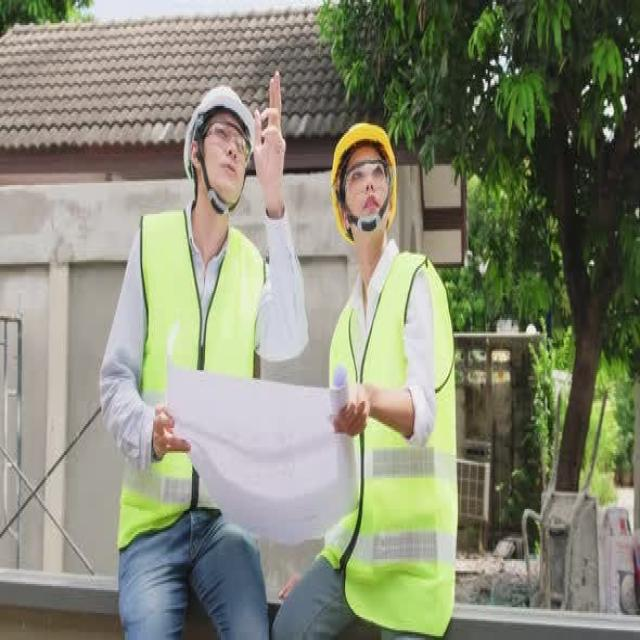goggles: (202, 121, 252, 163), (340, 158, 392, 190)
helmet: (331, 113, 401, 235), (182, 79, 257, 190)
vest: (319, 248, 460, 640), (116, 206, 268, 554)
